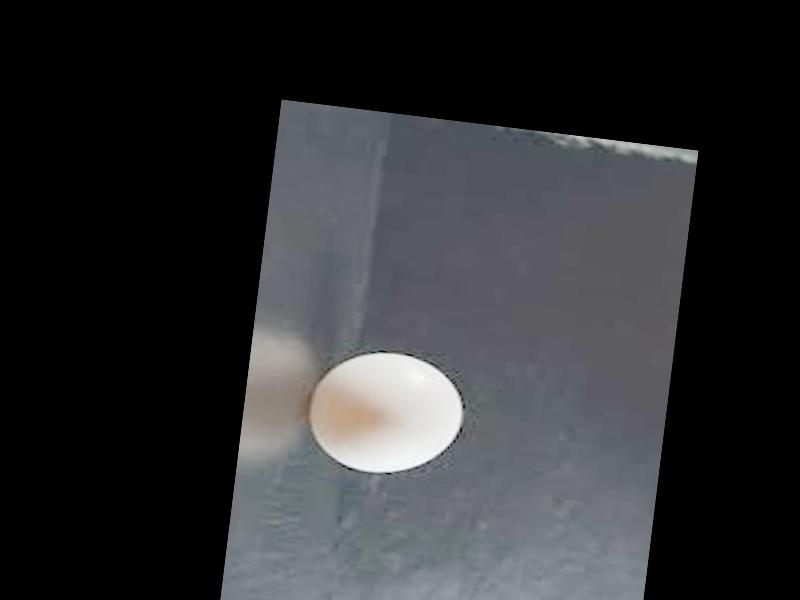Eggs: (304, 345, 472, 482)
